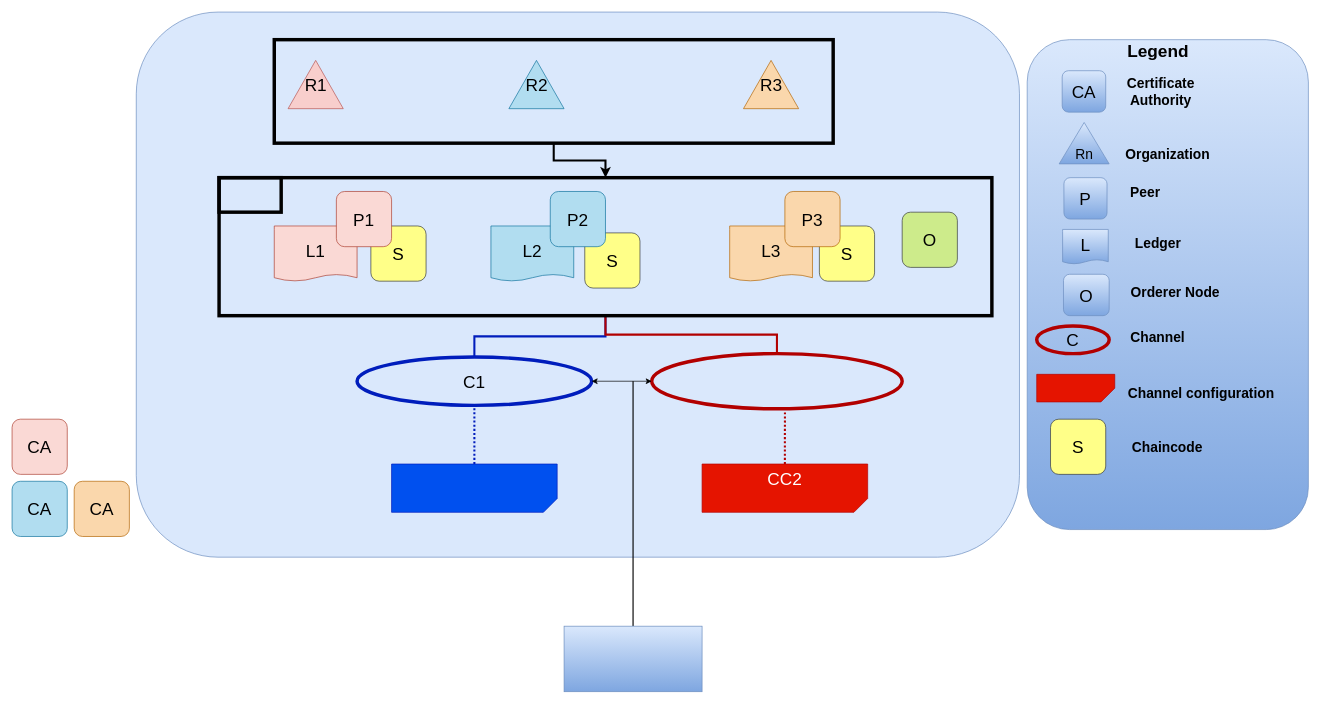
Image size: 1321x704. Some labels were removed from this diagram. Each missing label, with the centre of its shape:
C2: the point at 777,381
CC: the point at 1075,388
CC1: the point at 474,487
External Application(s): the point at 632,658
Nodes: the point at 250,195
